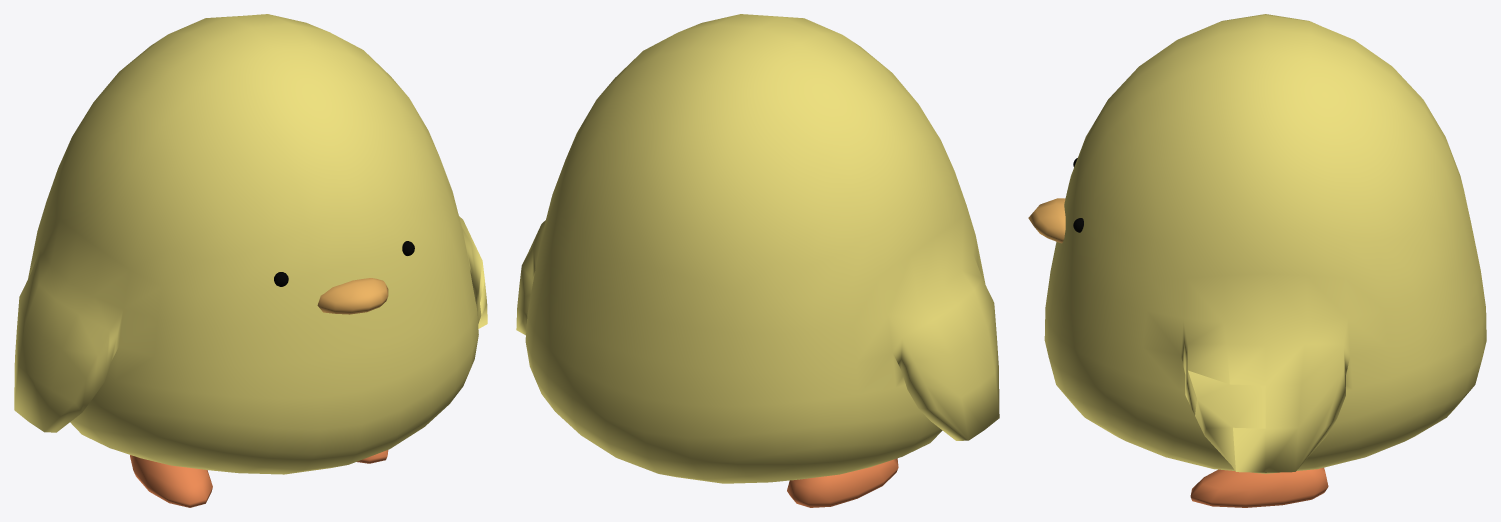
Rendered from Chick.fbx.
3 renders of one model, left to right at view 1: azimuth 30°, elevation 25°; view 2: azimuth 150°, elevation 25°; view 3: azimuth 270°, elevation 25°, orthographic. The views are drawn at different scales.
Visible parts, largest first — view 1: Body, Legs.001, Beak; view 2: Body, Legs.001; view 3: Body, Legs.001, Beak.
Boxes of the visible parts, bbox=[...] form: Body: bbox=[14, 14, 487, 474]; Legs.001: bbox=[130, 450, 388, 507]; Beak: bbox=[317, 278, 388, 314]; Body: bbox=[516, 14, 999, 483]; Legs.001: bbox=[787, 458, 898, 507]; Body: bbox=[1044, 14, 1486, 473]; Legs.001: bbox=[1190, 467, 1328, 507]; Beak: bbox=[1028, 198, 1065, 243].
Size of the model in its own units: 191 by 177 by 172.
